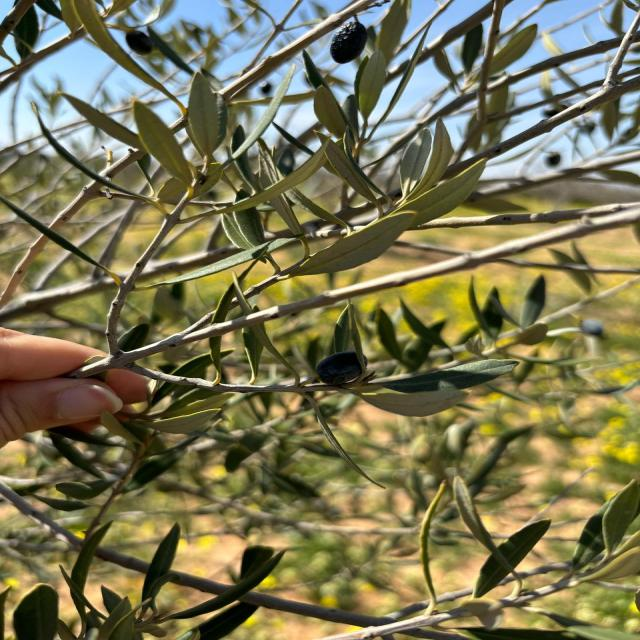Healthy: (293, 211, 414, 276), (133, 100, 192, 186), (371, 360, 518, 393), (365, 389, 467, 416), (400, 128, 431, 198), (359, 49, 386, 120), (316, 350, 361, 386)
